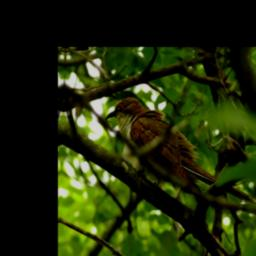Cuckoo: (102, 93, 256, 206)
